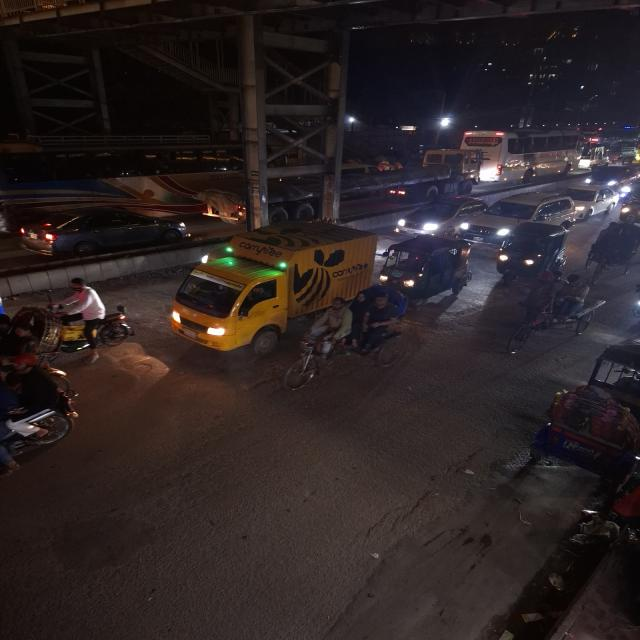bus: (482, 127, 583, 179), (598, 129, 638, 166)
car: (10, 206, 193, 253), (460, 192, 580, 240), (395, 196, 488, 234), (566, 182, 618, 218), (585, 163, 640, 189)
cng: (380, 234, 473, 298), (494, 225, 571, 277)
motorcycle: (0, 361, 84, 486), (628, 271, 640, 320)
rickshaw: (287, 289, 402, 387), (531, 382, 640, 484), (40, 282, 130, 362), (509, 290, 606, 352), (0, 301, 49, 374)
truck: (165, 221, 385, 357), (365, 152, 480, 198)
